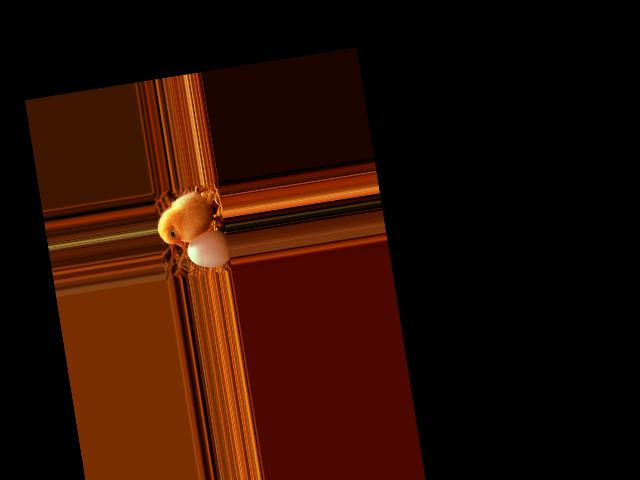egg: (184, 227, 232, 270)
